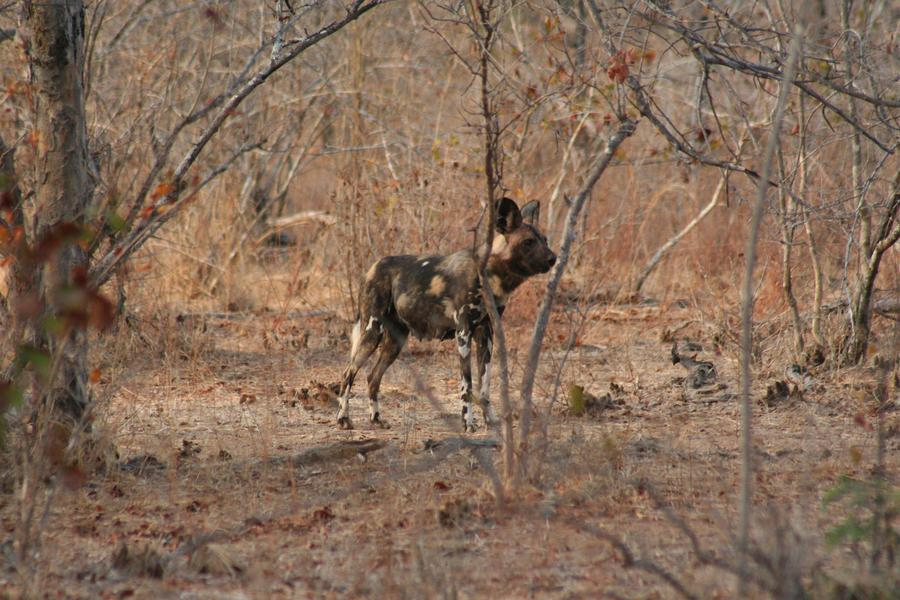wilddog: (349, 187, 548, 355)
